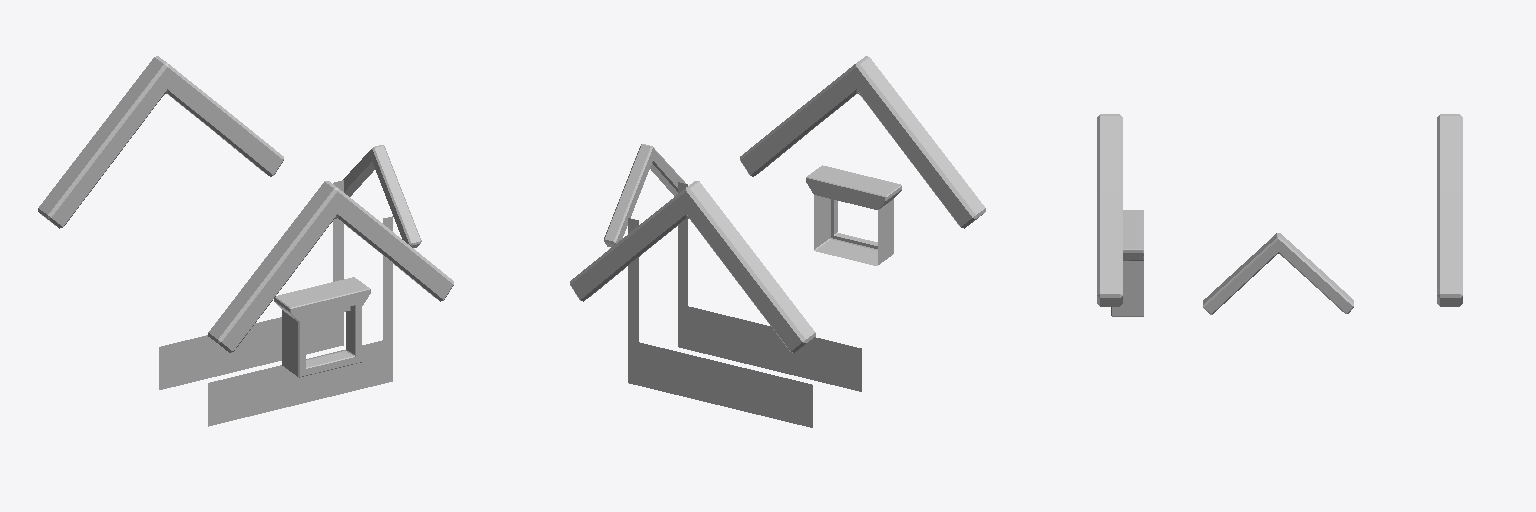
File: WallthersHut.obj
3 renders of one model, left to right at view 1: azimuth 30°, elevation 25°; view 2: azimuth 150°, elevation 25°; view 3: azimuth 270°, elevation 25°, orthographic.
Visible parts, largest first — view 1: Porch, Kante.001, Kante.002, Fenster, Kante.003; view 2: Porch, Kante.002, Kante.001, Fenster, Kante.003; view 3: Kante.001, Kante.002, Kante.003, Fenster.
Part boxes in pixels (x1,y1,x2,y2): Porch: (159,180,392,426); Kante.001: (208,181,453,352); Kante.002: (38,56,283,228); Fenster: (274,277,370,377); Kante.003: (343,145,421,247); Porch: (628,182,861,427); Kante.002: (570,181,815,352); Kante.001: (740,56,985,228); Fenster: (806,165,901,265); Kante.003: (604,144,685,247); Kante.001: (1097,114,1122,306); Kante.002: (1437,114,1462,306); Kante.003: (1203,233,1353,314); Fenster: (1111,210,1143,316).
Bounding box in the file's own units: 1.39 × 1.41 × 1.72.